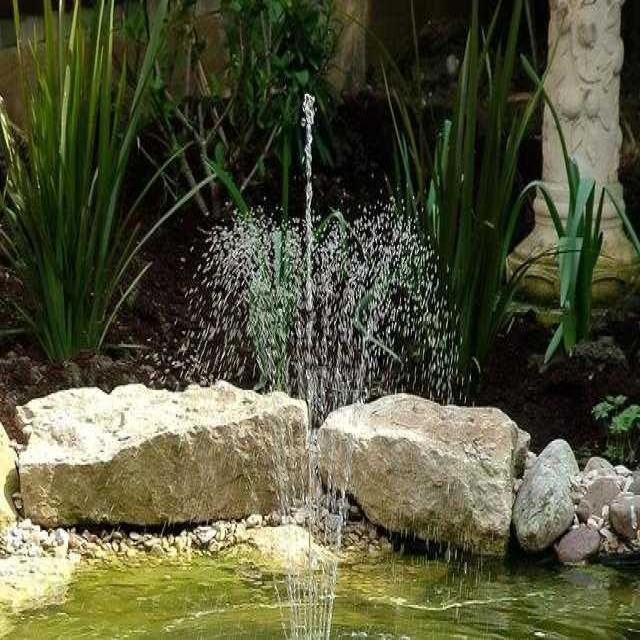Ponds: (1, 387, 640, 640)
